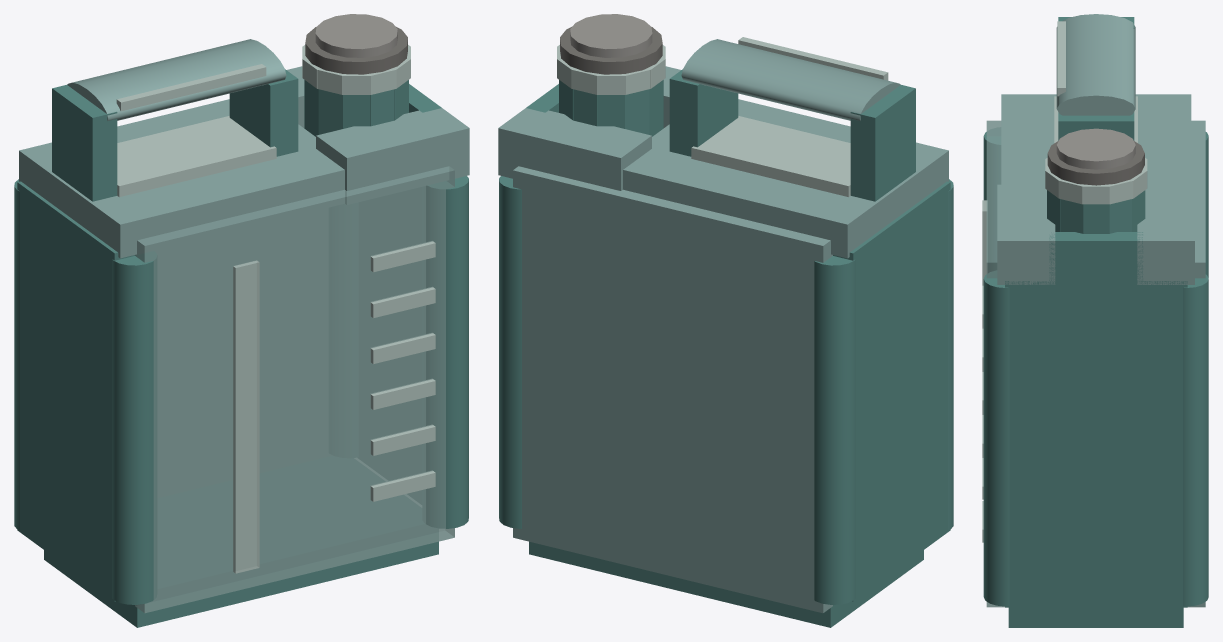
The model's file is CMU3DReagentJugCappedStudyCloud.glb.
The picture shows the model from 3 angles, left to right: view 1: azimuth 30°, elevation 25°; view 2: azimuth 150°, elevation 25°; view 3: azimuth 270°, elevation 25°; orthographic projection. The views are drawn at different scales.
Visible parts, largest first — view 1: front translucent jug wall, left molded jug wall, rounded canister corner (×3), jug shoulder left deck, jug shoulder front around spout, front vertical molding, handle inner lower ledge, handle rounded bridge, handle left upright, closed molded jug floor, handle right upright, spout lid crown (+12 smaller); view 2: back molded jug wall, left molded jug wall, rounded canister corner (×3), jug shoulder left deck, handle rounded bridge, jug shoulder rear around spout, handle inner lower ledge, handle left upright, closed molded jug floor, handle right upright, spout lid crown, small grey removable spout lid (+5 smaller); view 3: right molded jug wall, rounded canister corner (×4), jug shoulder left deck, handle rounded bridge, jug shoulder front around spout, jug shoulder rear around spout, jug shoulder right around spout, closed molded jug floor, spout lid crown, front translucent jug wall, back molded jug wall, small grey removable spout lid (+12 smaller).
Boxes of the visible parts, box(x1,y1,x2,y2) form: front translucent jug wall: box(135, 166, 454, 613); left molded jug wall: box(17, 181, 135, 601); rounded canister corner (×3): box(14, 176, 468, 604); jug shoulder left deck: box(19, 99, 344, 258); jug shoulder front around spout: box(316, 108, 469, 204); front vertical molding: box(233, 260, 259, 573); handle inner lower ledge: box(117, 116, 276, 197); handle rounded bridge: box(67, 39, 286, 120); handle left upright: box(52, 85, 117, 201); closed molded jug floor: box(44, 541, 438, 627); handle right upright: box(229, 69, 298, 156); spout lid crown: box(315, 14, 397, 57); back molded jug wall: box(513, 166, 832, 613); left molded jug wall: box(833, 181, 950, 601); rounded canister corner (×3): box(499, 176, 953, 604); jug shoulder left deck: box(623, 99, 948, 258); handle rounded bridge: box(681, 39, 900, 120); jug shoulder rear around spout: box(498, 108, 651, 190); handle inner lower ledge: box(691, 116, 850, 197); handle left upright: box(850, 85, 915, 201); closed molded jug floor: box(529, 541, 923, 627); handle right upright: box(669, 69, 738, 156); spout lid crown: box(570, 14, 652, 57); small grey removable spout lid: box(560, 26, 662, 74); right molded jug wall: box(1005, 281, 1187, 607); rounded canister corner (×4): box(983, 132, 1208, 606); jug shoulder left deck: box(1001, 94, 1191, 184); handle rounded bridge: box(1056, 14, 1135, 115); jug shoulder front around spout: box(997, 184, 1055, 284); jug shoulder rear around spout: box(1137, 184, 1194, 284); jug shoulder right around spout: box(1049, 232, 1143, 284); closed molded jug floor: box(1008, 607, 1183, 627); spout lid crown: box(1056, 128, 1135, 169); front translucent jug wall: box(986, 120, 1004, 607); back molded jug wall: box(1187, 120, 1205, 607); small grey removable spout lid: box(1047, 141, 1144, 185).
Bounding box in the file's own units: 0.502 × 0.688 × 0.298.
